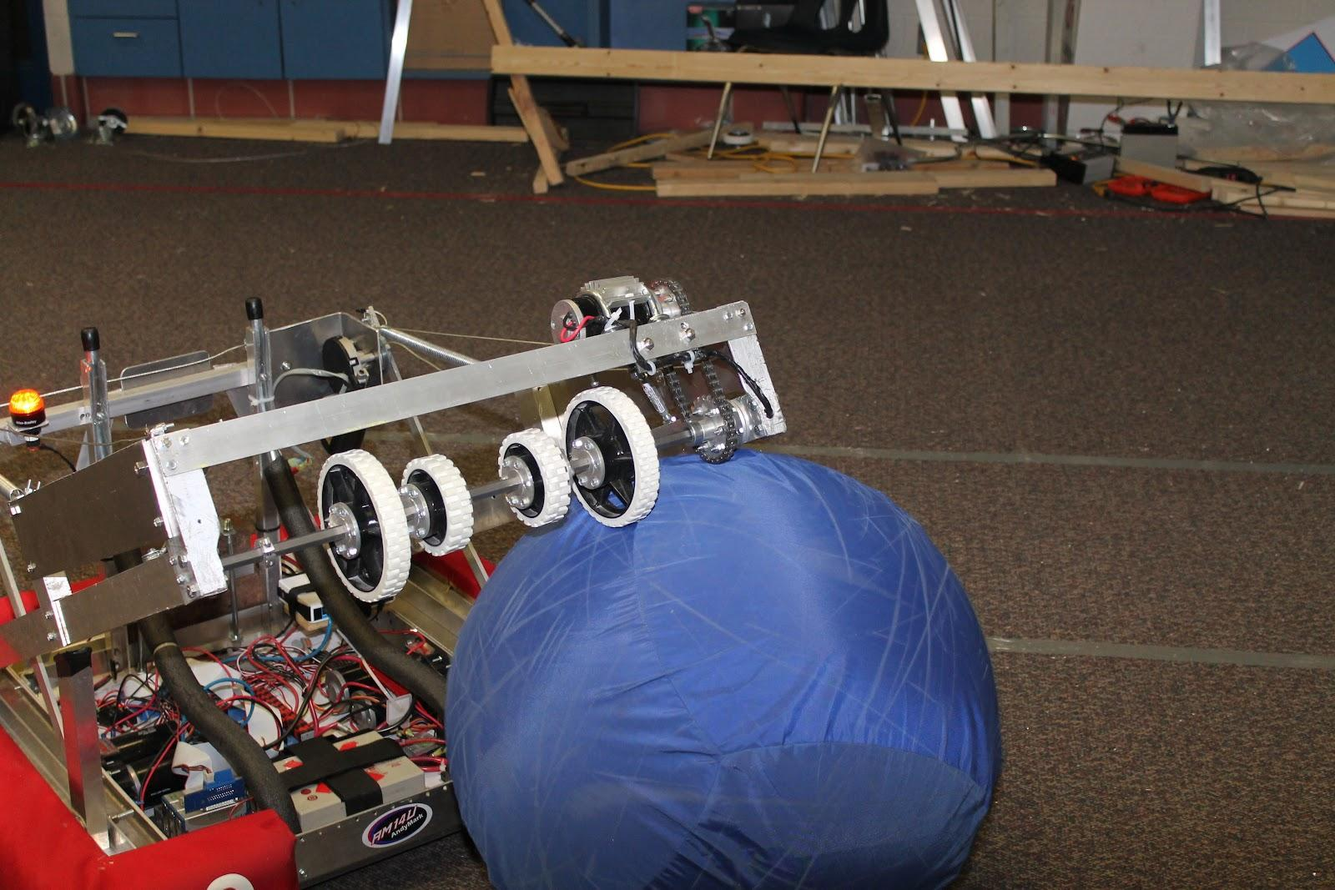robot: (0, 231, 809, 890)
